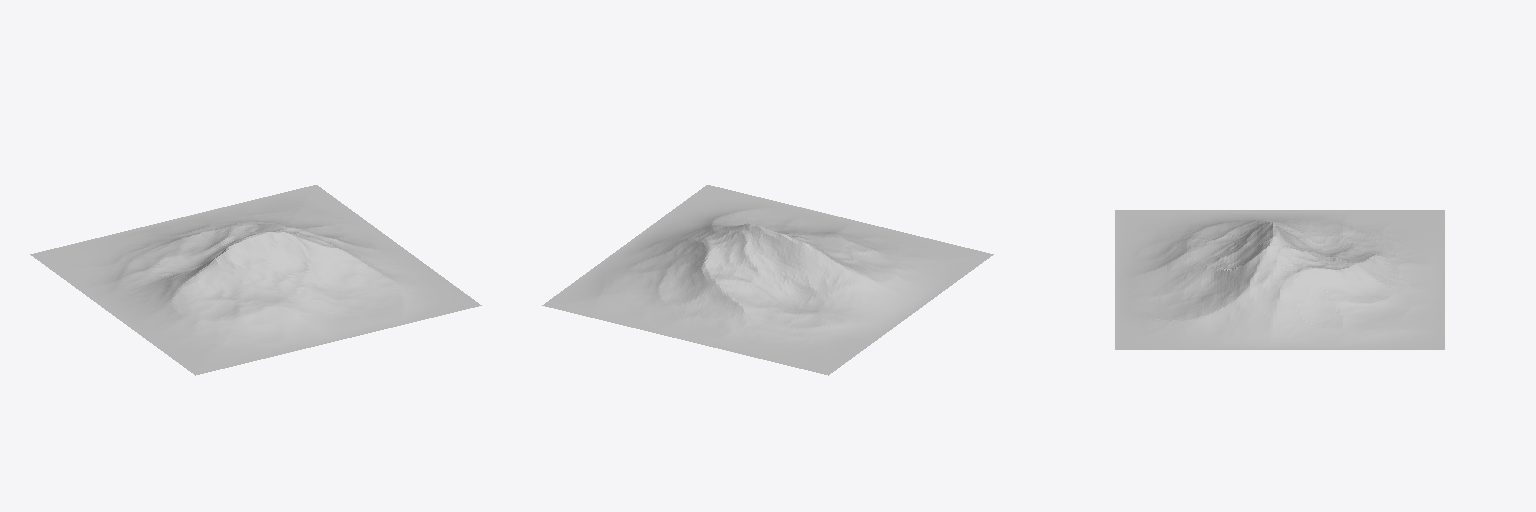
The model's file is landscape.obj.
The picture shows the model from 3 angles: view 1: azimuth 30°, elevation 25°; view 2: azimuth 150°, elevation 25°; view 3: azimuth 270°, elevation 25°; orthographic projection.
Parts seen in each view (by area): view 1: Landscape; view 2: Landscape; view 3: Landscape.
Boxes of the visible parts, x1,y1,x2,y2 form: Landscape: [30, 185, 481, 375]; Landscape: [542, 185, 993, 375]; Landscape: [1115, 210, 1444, 349].
Bounding box in the file's own units: 600 × 96.29 × 600.